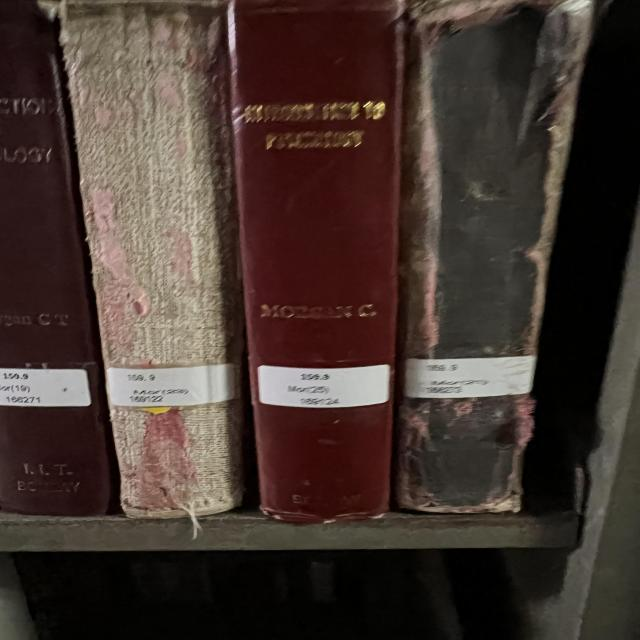Book: (397, 0, 597, 512), (60, 0, 243, 518), (230, 0, 400, 522)
Label: (405, 355, 537, 399), (258, 365, 390, 408), (107, 364, 235, 408)
